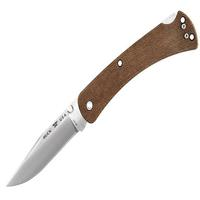knife: (4, 10, 194, 190)
